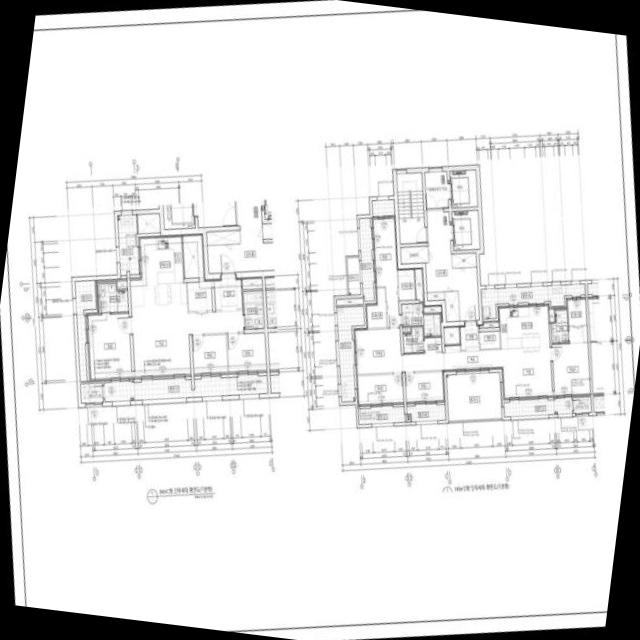background: (0, 0, 640, 640)
space_balconi: (103, 373, 267, 401), (481, 283, 584, 318), (445, 372, 501, 420), (336, 305, 364, 401), (74, 280, 95, 381), (503, 396, 591, 416), (117, 214, 138, 274), (359, 217, 373, 300), (358, 405, 404, 424), (406, 403, 445, 421), (346, 256, 360, 294), (371, 199, 394, 215)
space_bedroom: (85, 312, 131, 380), (371, 216, 399, 326), (552, 325, 590, 396), (227, 332, 266, 373), (356, 373, 403, 405), (191, 334, 227, 375), (404, 371, 444, 403)
space_dressroom: (365, 287, 386, 327), (565, 297, 586, 325), (397, 268, 415, 300)
space_elevator: (451, 209, 479, 249), (449, 169, 477, 207), (163, 202, 194, 229), (263, 199, 271, 218)
space_elevator_hall: (424, 170, 478, 320), (197, 199, 274, 272)
space_front: (459, 321, 499, 351), (214, 273, 242, 309)
space_kitchen: (129, 235, 187, 315), (497, 303, 549, 349)
space_living_room: (353, 327, 552, 399), (132, 309, 243, 378)
space_other: (182, 233, 204, 277), (187, 279, 212, 310), (400, 245, 428, 263), (206, 230, 240, 244), (444, 290, 459, 321), (137, 212, 159, 233), (80, 382, 102, 402), (451, 252, 476, 267), (414, 267, 423, 301), (443, 325, 459, 343), (242, 276, 261, 289), (336, 297, 363, 305), (427, 291, 444, 300), (262, 223, 272, 238), (423, 304, 441, 312), (479, 320, 498, 327), (116, 278, 127, 288), (548, 307, 554, 321), (402, 326, 410, 331)
space_staircase: (396, 172, 425, 243)
space_toilet: (401, 303, 440, 335), (402, 326, 441, 353), (98, 282, 128, 312), (242, 290, 263, 328), (551, 309, 568, 342)
